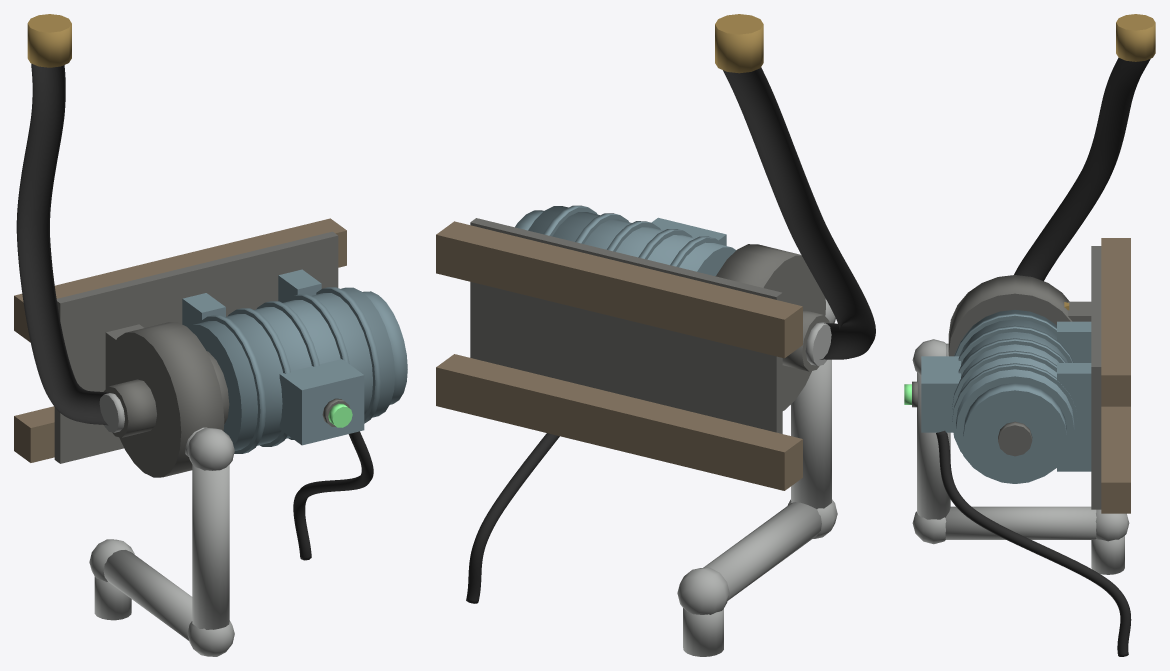
Rendered from pump_on.obj.
3 renders of one model, left to right at view 1: azimuth 30°, elevation 25°; view 2: azimuth 150°, elevation 25°; view 3: azimuth 270°, elevation 25°, orthographic. The views are drawn at different scales.
Parts seen in each view (by area): view 1: base_plate, motor, suction_hose, volute, discharge_run, terminal_box, skid-0.12, discharge_drop, power_cord, foot_valve, skid0.12, suction_port (+13 smaller); view 2: base_plate, skid-0.12, skid0.12, suction_hose, volute, discharge_drop, discharge_run, motor, foot_valve, power_cord, discharge_elbow3, pipe1_out (+3 smaller); view 3: motor_bell, suction_hose, motor, skid-0.12, discharge_drop, volute, power_cord, skid0.12, base_plate, terminal_box, discharge_run, motor_foot0.35 (+13 smaller).
Boxes of the visible parts, bbox=[...] form: base_plate: bbox=[54, 231, 338, 463]; motor: bbox=[188, 287, 395, 450]; suction_hose: bbox=[16, 63, 108, 425]; volute: bbox=[106, 322, 224, 477]; discharge_run: bbox=[192, 464, 229, 629]; terminal_box: bbox=[279, 359, 364, 445]; skid-0.12: bbox=[14, 218, 346, 342]; discharge_drop: bbox=[103, 550, 192, 640]; power_cord: bbox=[293, 431, 373, 560]; foot_valve: bbox=[27, 14, 71, 67]; skid0.12: bbox=[14, 406, 54, 462]; suction_port: bbox=[103, 379, 156, 437]; base_plate: bbox=[470, 218, 782, 433]; skid-0.12: bbox=[436, 221, 802, 358]; skid0.12: bbox=[436, 354, 802, 490]; suction_hose: bbox=[723, 67, 875, 359]; volute: bbox=[716, 244, 825, 410]; discharge_drop: bbox=[703, 502, 821, 600]; discharge_run: bbox=[791, 359, 831, 508]; motor: bbox=[528, 206, 736, 275]; foot_valve: bbox=[715, 14, 763, 73]; power_cord: bbox=[466, 433, 559, 603]; discharge_elbow3: bbox=[677, 567, 729, 614]; pipe1_out: bbox=[683, 608, 723, 656]; motor_bell: bbox=[963, 383, 1066, 483]; suction_hose: bbox=[1014, 57, 1150, 281]; motor: bbox=[956, 309, 1074, 477]; skid-0.12: bbox=[1101, 238, 1130, 406]; discharge_drop: bbox=[945, 506, 1096, 539]; volute: bbox=[948, 275, 1072, 356]; power_cord: bbox=[936, 430, 1131, 656]; skid0.12: bbox=[1101, 406, 1130, 513]; base_plate: bbox=[1091, 246, 1101, 509]; terminal_box: bbox=[921, 356, 960, 432]; discharge_run: bbox=[917, 372, 950, 519]; motor_foot0.35: bbox=[1057, 363, 1091, 471].
Bounding box in the file's own units: 0.7144 × 1.18 × 0.5095.
Materials: 8 (8 with a texture image).
